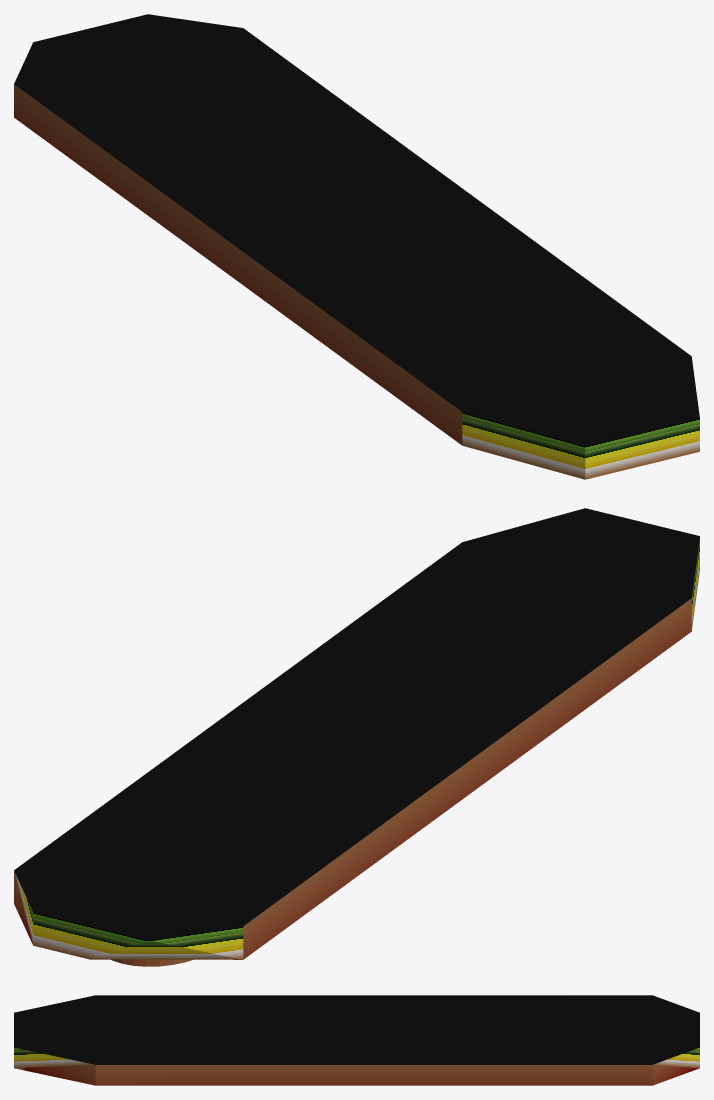
Rendered from HoverBoard.fbx.
3 views of the same model, one above another, from view 1: azimuth 30°, elevation 25°; view 2: azimuth 150°, elevation 25°; view 3: azimuth 270°, elevation 25° (orthographic). The views are drawn at different scales.
Parts seen in each view (by area): view 1: Cube; view 2: Cube; view 3: Cube.
Part boxes in pixels (x1,y1,x2,y2): Cube: (14, 14, 699, 479); Cube: (14, 508, 699, 966); Cube: (14, 995, 699, 1085).
Bounding box in the file's own units: 200 × 50.93 × 834.
